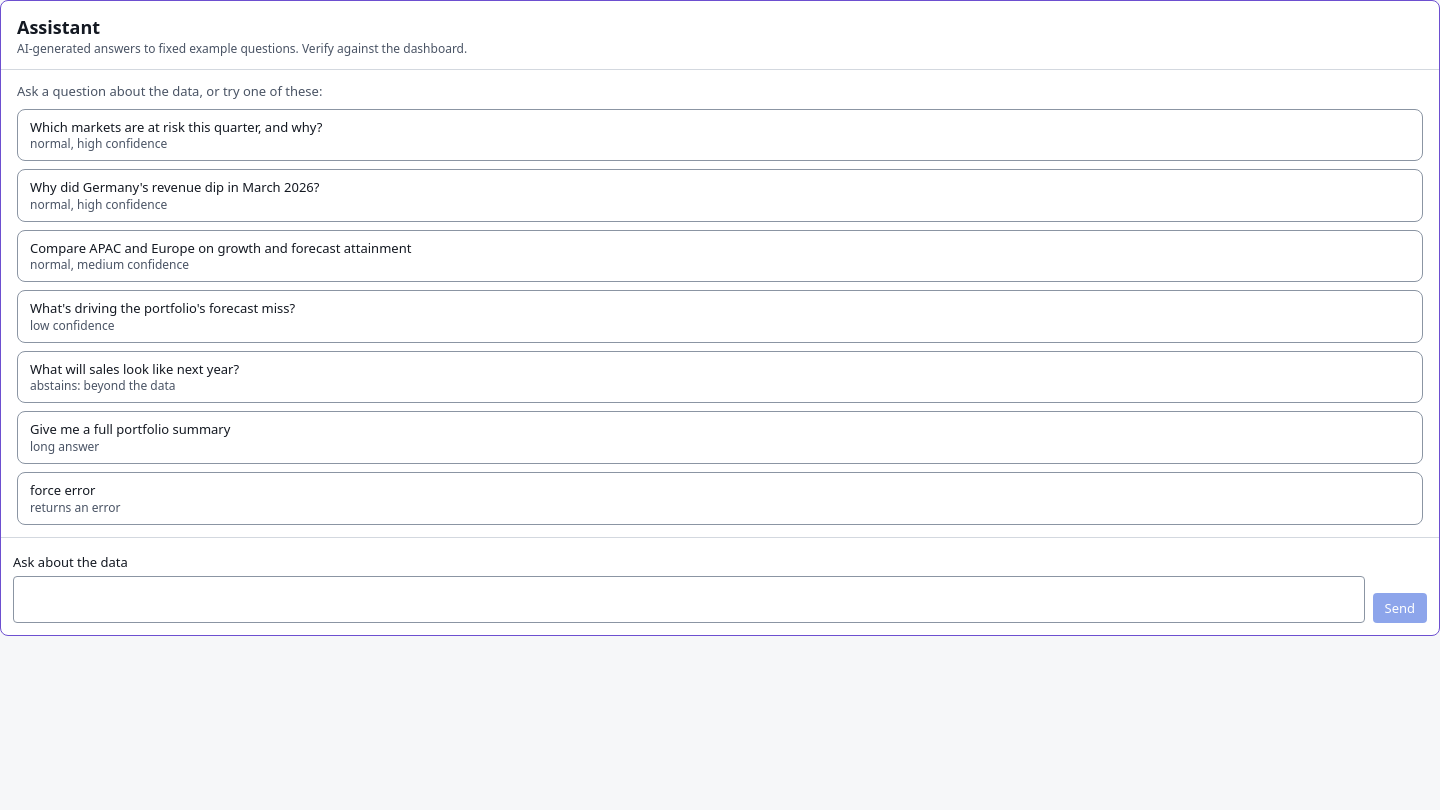
trust surface › medium confidence shows text and an explanation
Type "germany" into the text box labelled "Ask about the data" at (689, 600), box [13,576,1364,623]
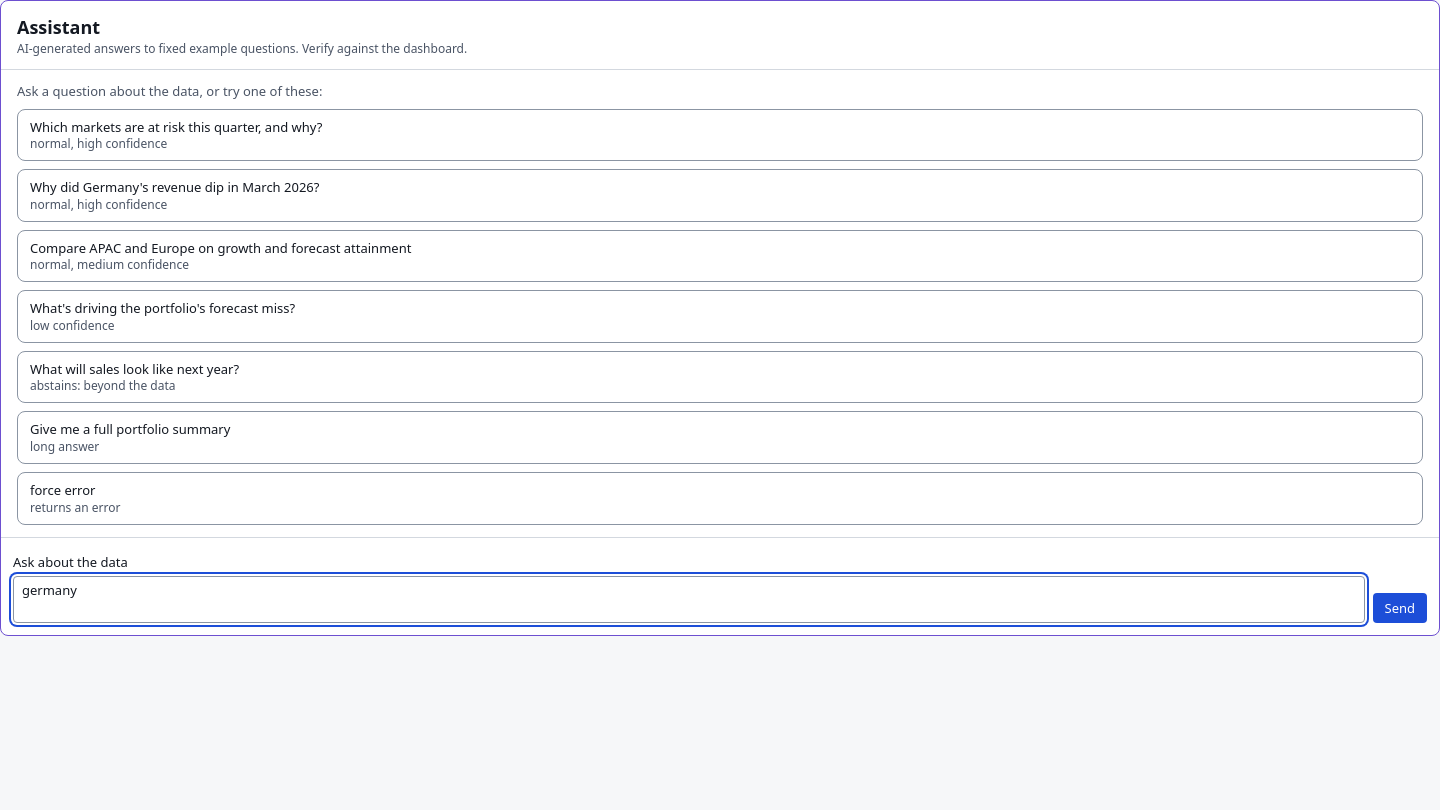
Click the button "Send" at (1400, 608), box [1372,593,1427,623]
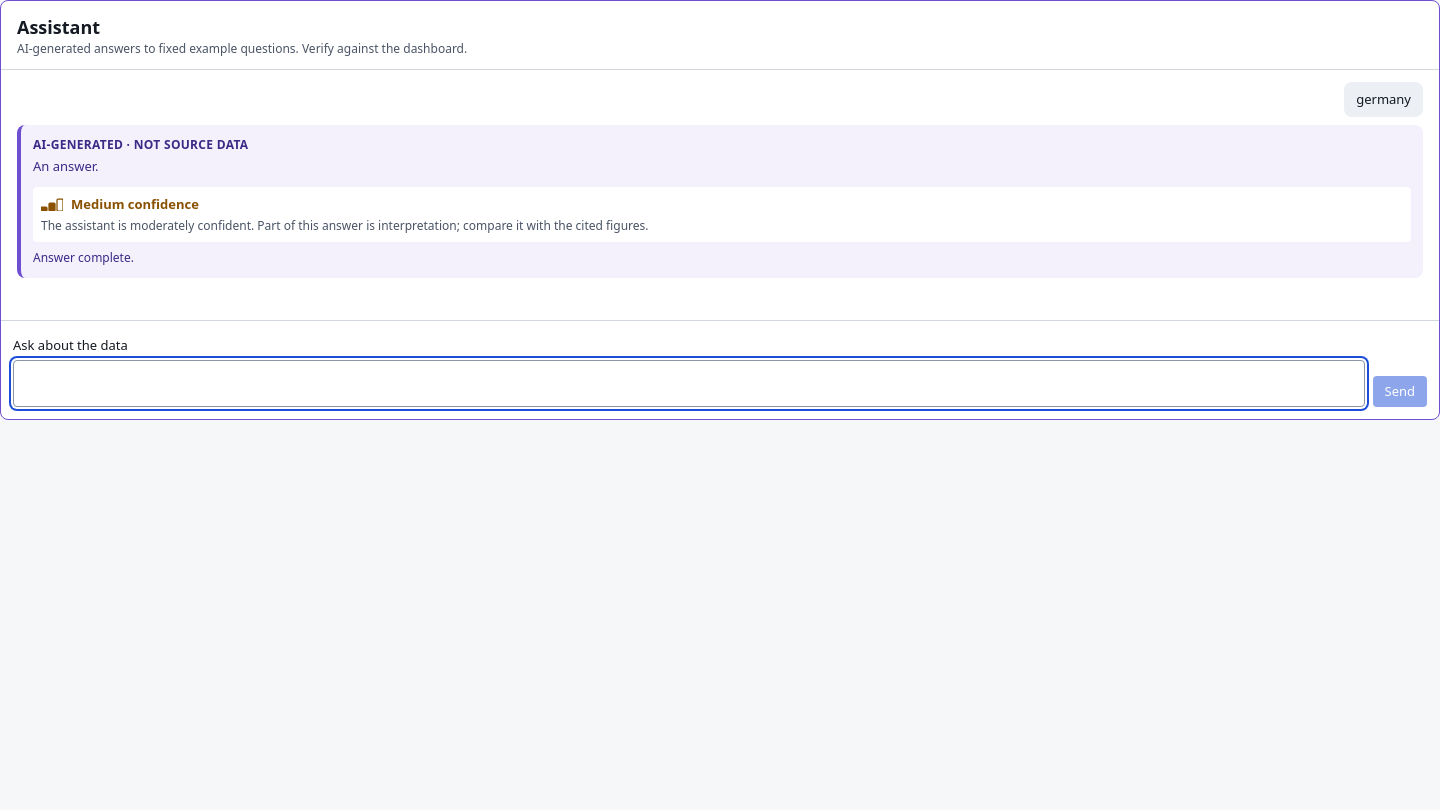
Expected: the element with test id "trust-notice" shows "Medium confidence", [71,195,199,213]
Expected: the element with test id "trust-notice" shows "moderately confident", [41,217,648,234]
